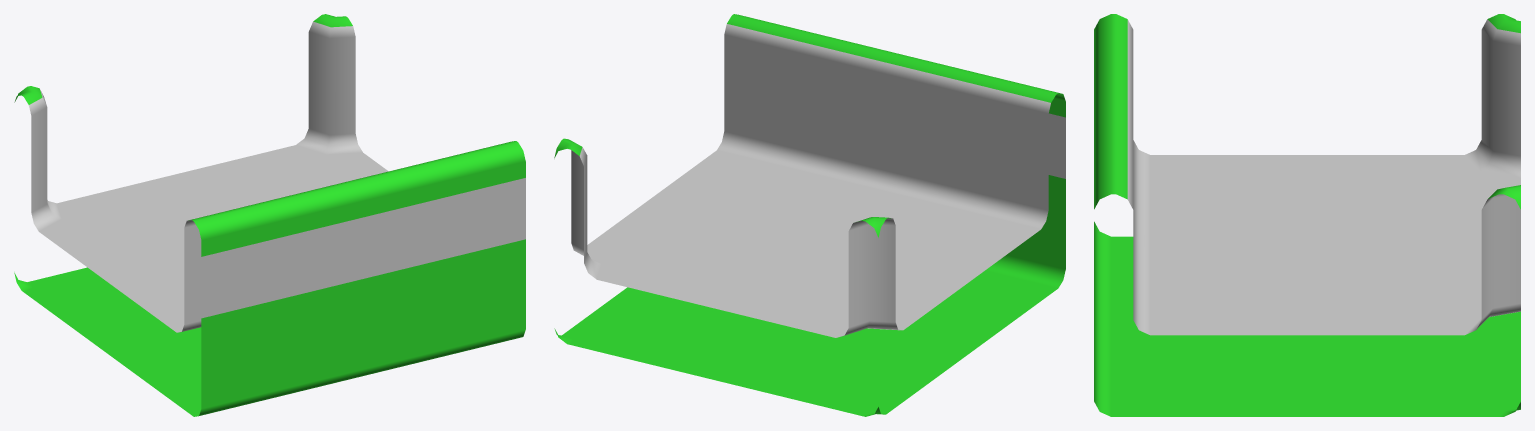
File: ContainerBorderEnd.fbx
The picture shows the model from 3 angles, left to right: view 1: azimuth 30°, elevation 25°; view 2: azimuth 150°, elevation 25°; view 3: azimuth 270°, elevation 25°; orthographic projection. The views are drawn at different scales.
Visible parts, largest first — view 1: ContainerBorderEnd; view 2: ContainerBorderEnd; view 3: ContainerBorderEnd.
Part boxes in pixels (x1,y1,x2,y2): ContainerBorderEnd: (14,14,525,416); ContainerBorderEnd: (554,14,1065,416); ContainerBorderEnd: (1094,14,1520,416).
Size of the model in its own units: 50 by 28.78 by 50.
